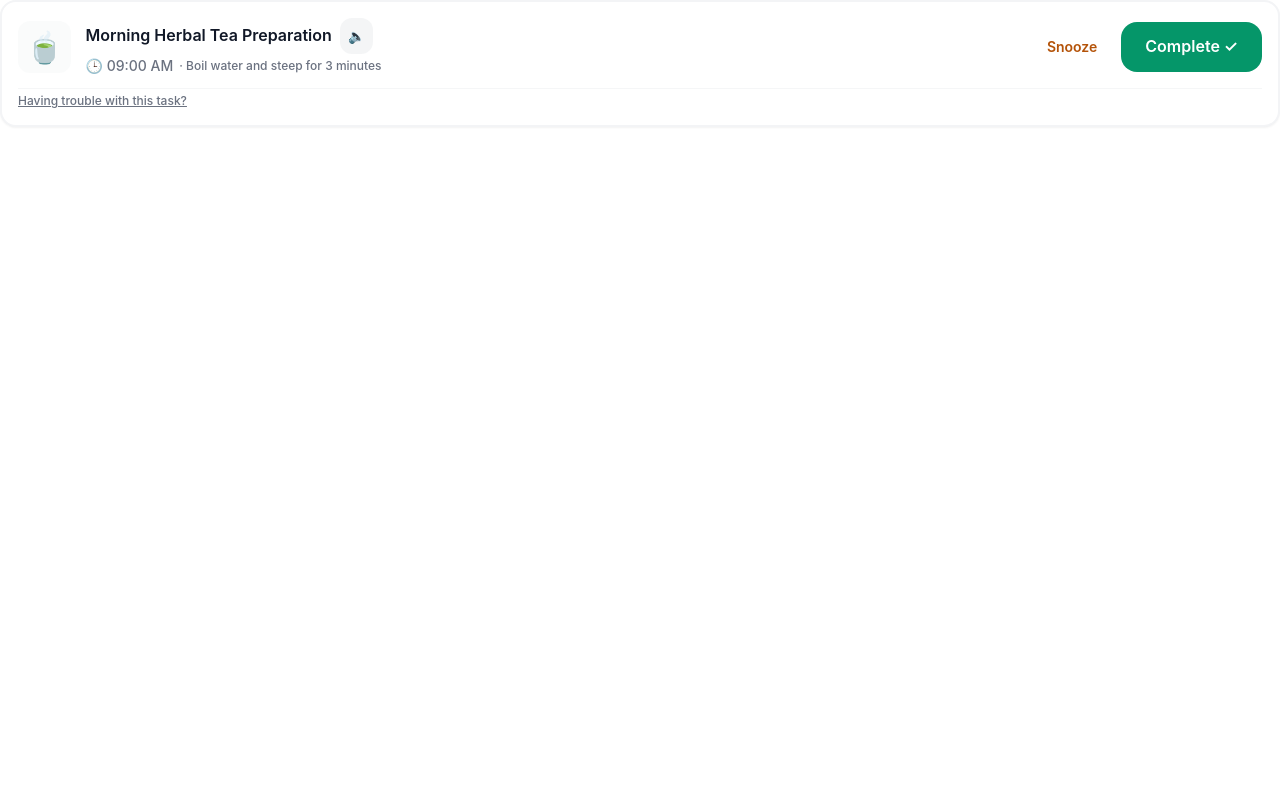
Test: Priority 2: In-Task Difficulty Reporting & Feedback Workflow › 1. Opens difficulty modal and closes cleanly on cancel without saving
Note: Click trigger
Click the button "Having trouble with this task?".
click(102, 101)  # box [18,93,187,109]
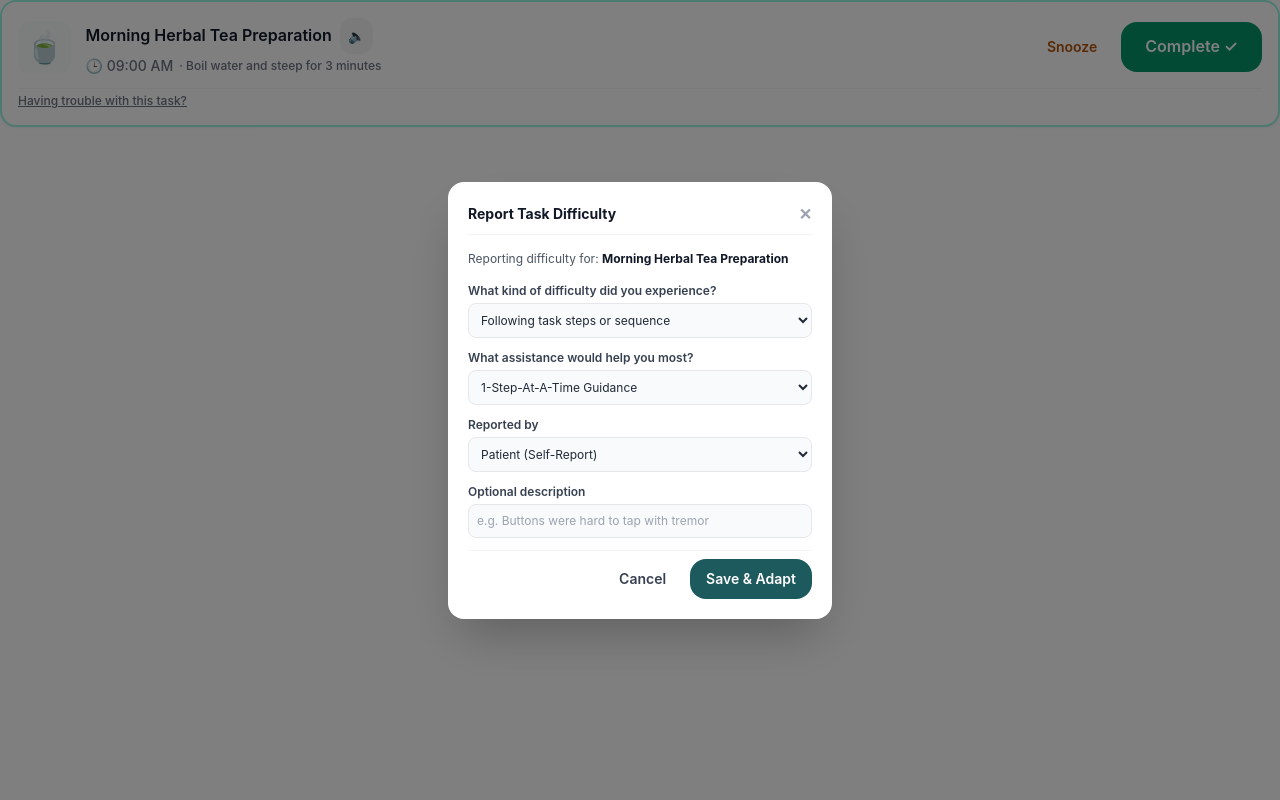
Expected: the dialog is shown
Expected: the heading "Report Task Difficulty" is shown, [468,204,616,224]
Expected: the text "Morning Herbal Tea Preparation" is shown, [602,250,788,266]
Note: Click cancel
Click the button "Cancel".
click(643, 578)  # box [603,558,682,598]
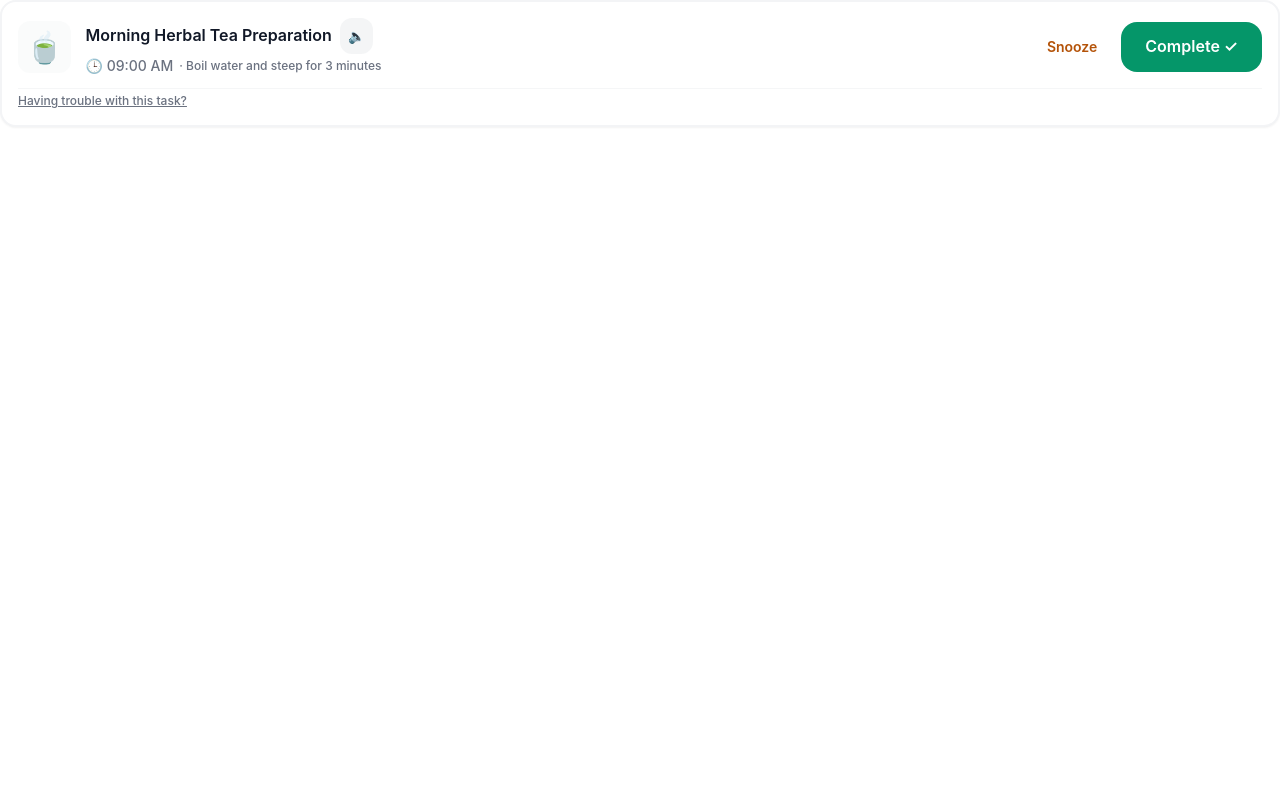
Expected: the dialog is gone
